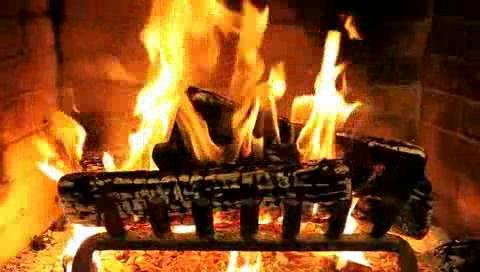fire: (131, 0, 358, 177)
